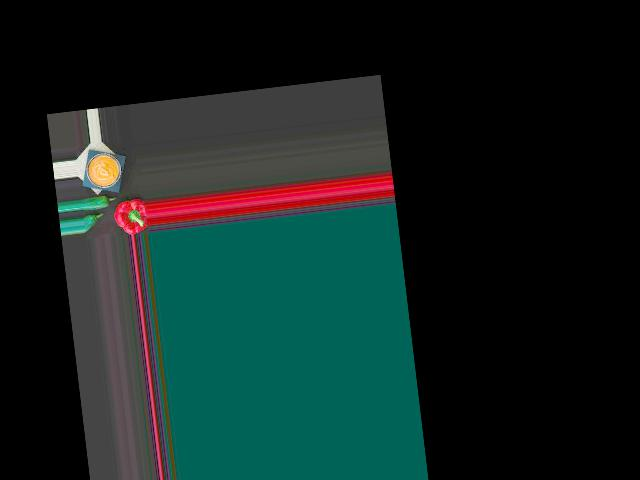bell_pepper: (113, 198, 148, 235)
